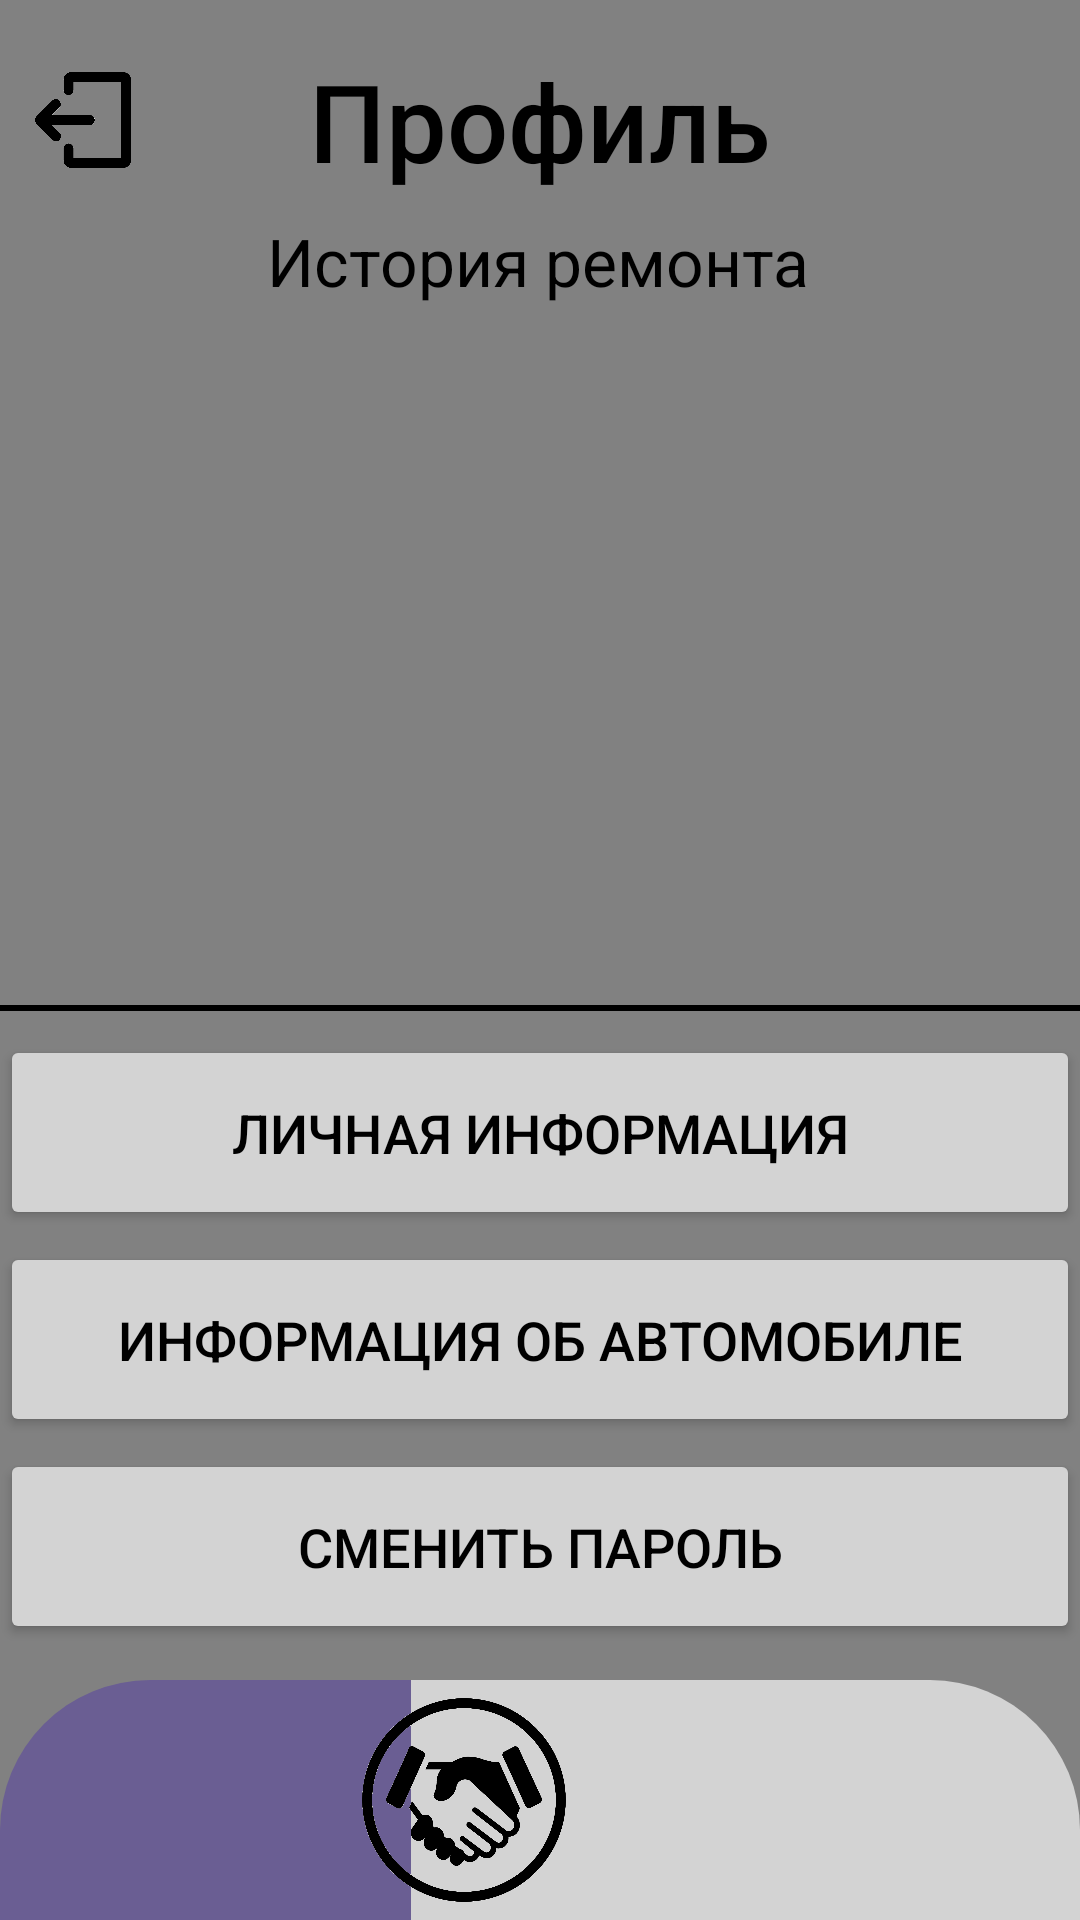

Screen size 1080x1920. Icon name, then its box in pixels as (x1,y1,x2,y2):
out account: (35,72,131,168)
uslugi: (362,1698,566,1902)
